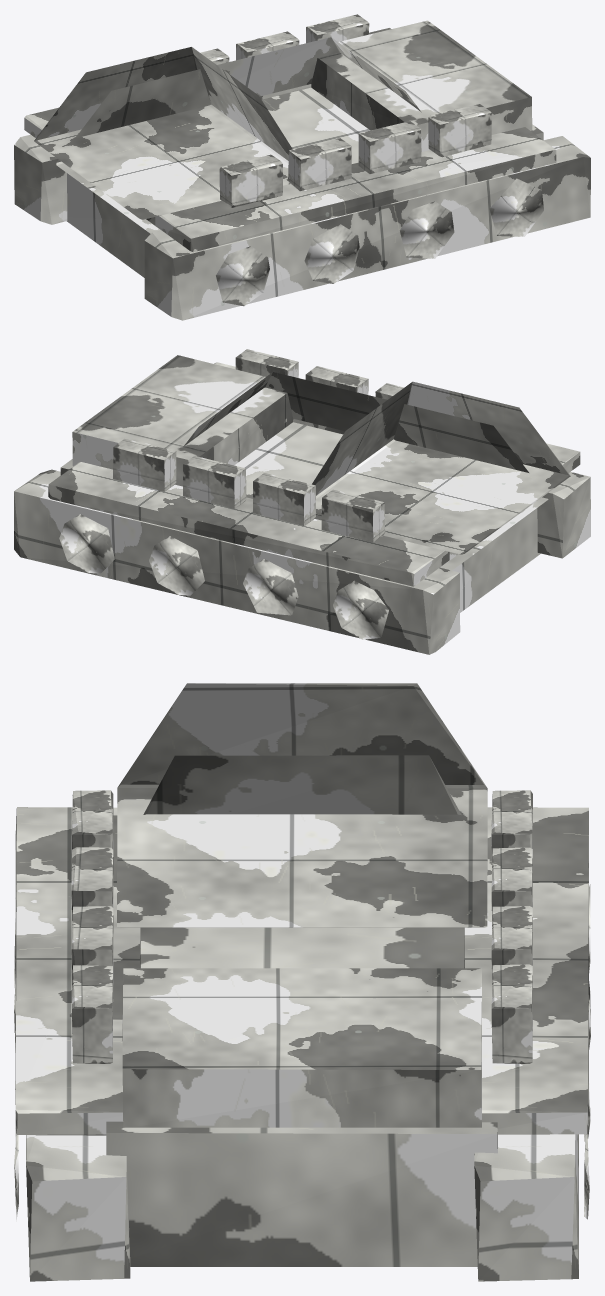
File: heavy_tank_body_lod.glb
3 views of the same model, one above another, from view 1: azimuth 30°, elevation 25°; view 2: azimuth 150°, elevation 25°; view 3: azimuth 270°, elevation 25° (orthographic). The views are drawn at different scales.
Parts seen in each view (by area): view 1: heavy_tank_body_lod; view 2: heavy_tank_body_lod; view 3: heavy_tank_body_lod.
Boxes of the visible parts, <box> form: heavy_tank_body_lod: <box>14,14,590,320</box>; heavy_tank_body_lod: <box>14,349,590,654</box>; heavy_tank_body_lod: <box>14,683,590,1281</box>.
Size of the model in its own units: 3.49 by 1.27 by 2.39.
Materials: 1 (1 with a texture image).
